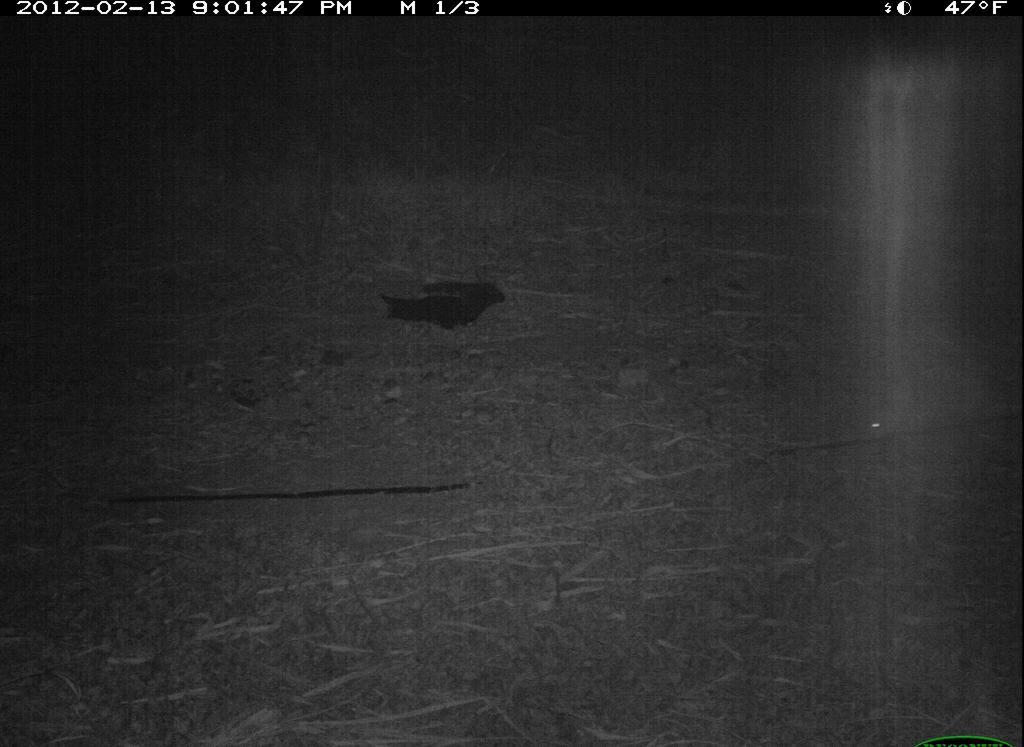opossum: (852, 357, 995, 444)
